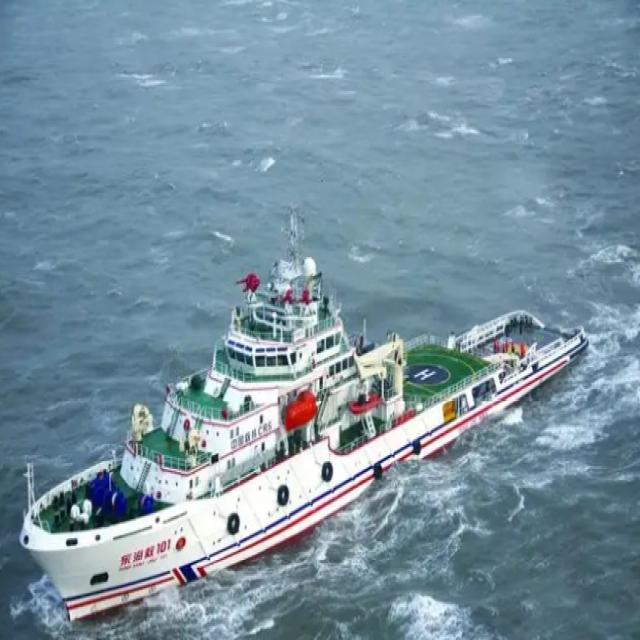navalvessels: (12, 228, 590, 640)
